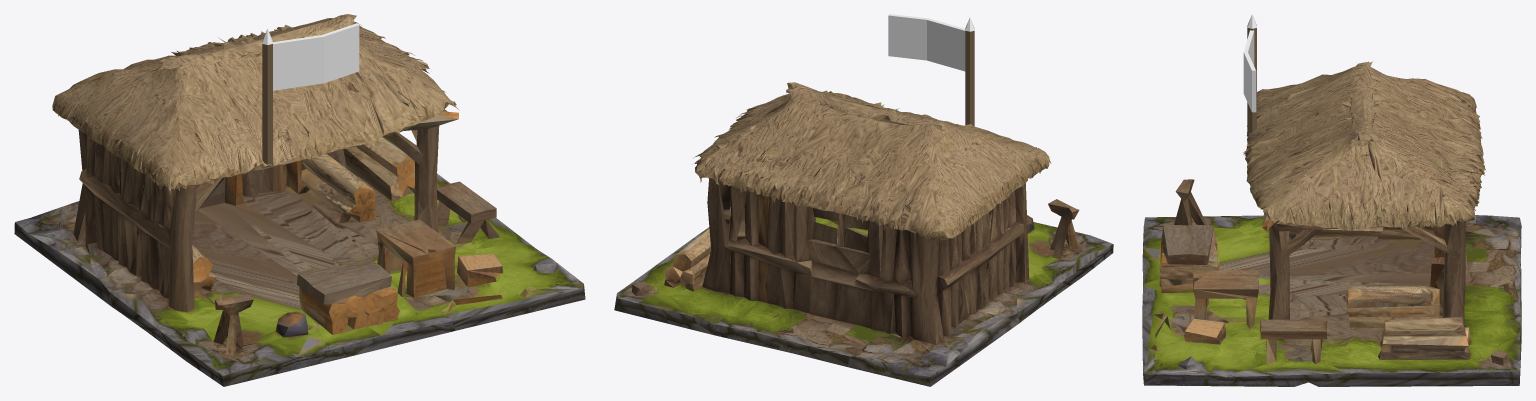
3 renders of one model, left to right at view 1: azimuth 30°, elevation 25°; view 2: azimuth 150°, elevation 25°; view 3: azimuth 270°, elevation 25°, orthographic. The views are drawn at different scales.
Parts seen in each view (by area): view 1: lumber_camp, Team_banner; view 2: lumber_camp, Team_banner; view 3: lumber_camp, Team_banner.
Boxes of the visible parts, x1,y1,x2,y2 form: lumber_camp: (14,14,585,386); Team_banner: (262,23,359,167); lumber_camp: (614,82,1113,386); Team_banner: (888,14,974,126); lumber_camp: (1142,61,1521,386); Team_banner: (1243,14,1256,137).
Size of the model in its own units: 1.9 by 1.43 by 1.9.
Materials: 3 (1 with a texture image).
